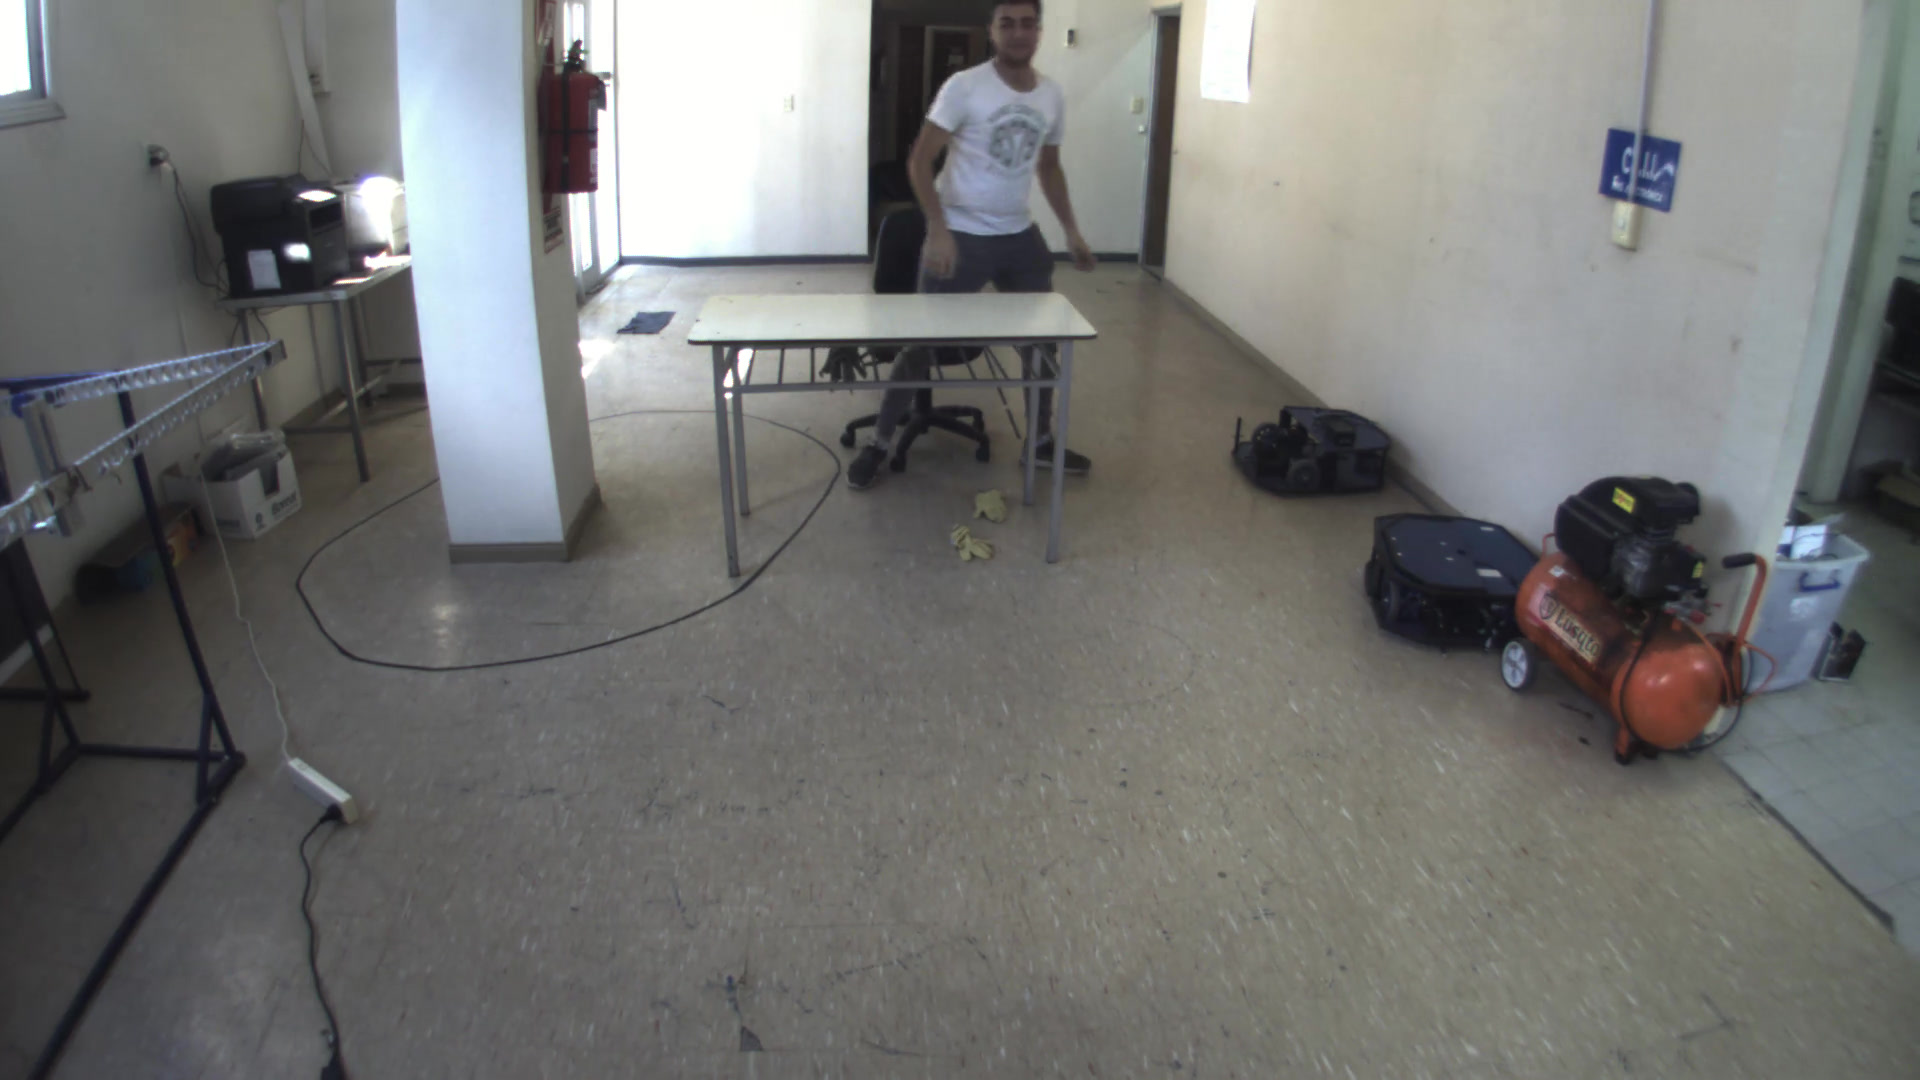hand: (906, 218, 968, 286), (1060, 224, 1108, 273)
